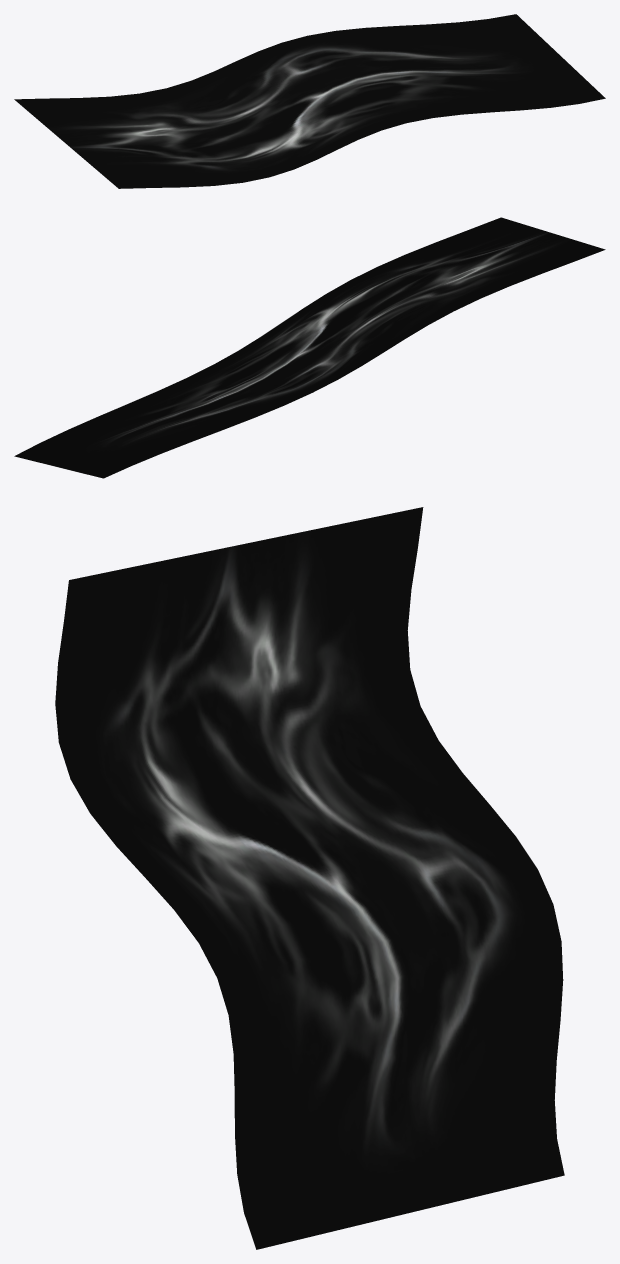
Rendered from xiaotian_liuguang02.FBX.
The picture shows the model from 3 angles, top to bottom: view 1: azimuth 30°, elevation 25°; view 2: azimuth 210°, elevation 25°; view 3: azimuth 270°, elevation 25°; orthographic projection. The views are drawn at different scales.
Visible parts, largest first — view 1: Plane006; view 2: Plane006; view 3: Plane006.
Boxes of the visible parts, bbox=[...] form: Plane006: bbox=[14, 14, 605, 188]; Plane006: bbox=[14, 217, 605, 478]; Plane006: bbox=[55, 507, 564, 1249].
Bounding box in the file's own units: 68.03 × 12.16 × 27.27.
